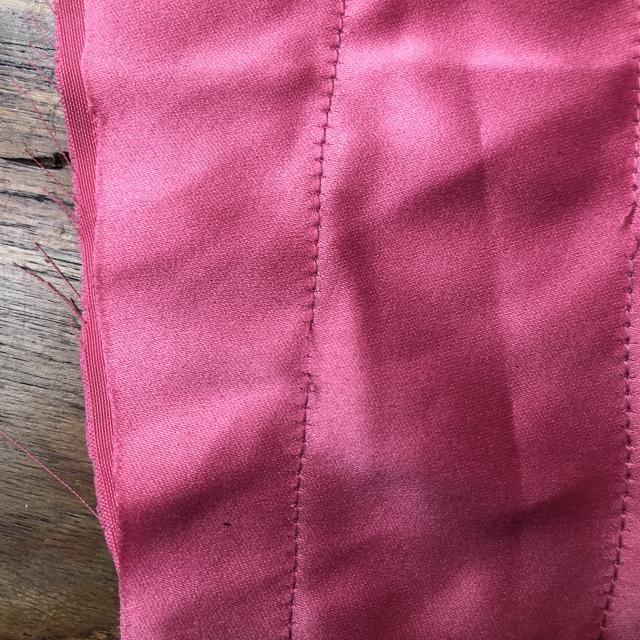broken: (280, 300, 345, 404)
